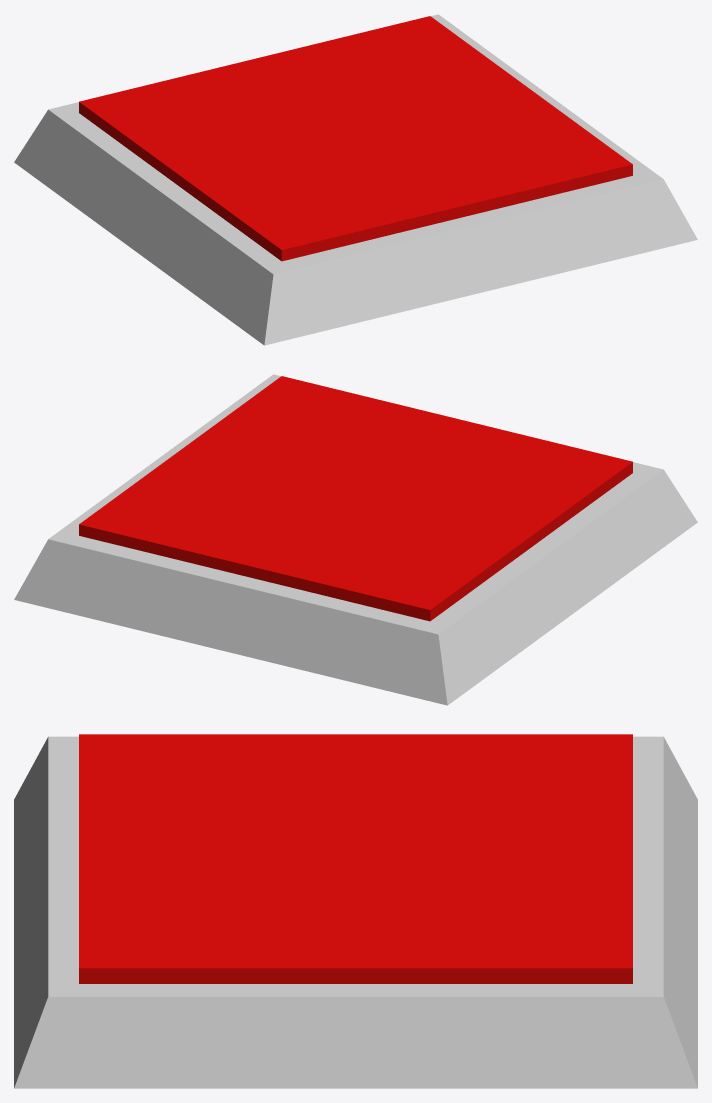
Rendered from Beta-Button.glb.
The picture shows the model from 3 angles, top to bottom: view 1: azimuth 30°, elevation 25°; view 2: azimuth 150°, elevation 25°; view 3: azimuth 270°, elevation 25°; orthographic projection. The views are drawn at different scales.
Parts seen in each view (by area): view 1: Plane.001, Plane; view 2: Plane.001, Plane; view 3: Plane.001, Plane.
Part boxes in pixels (x1,y1,x2,y2): Plane.001: [79, 16, 632, 261]; Plane: [14, 14, 697, 345]; Plane.001: [79, 376, 632, 621]; Plane: [14, 374, 697, 705]; Plane.001: [79, 734, 632, 983]; Plane: [14, 736, 697, 1088].
Size of the model in its own units: 8 by 1.2 by 8.
